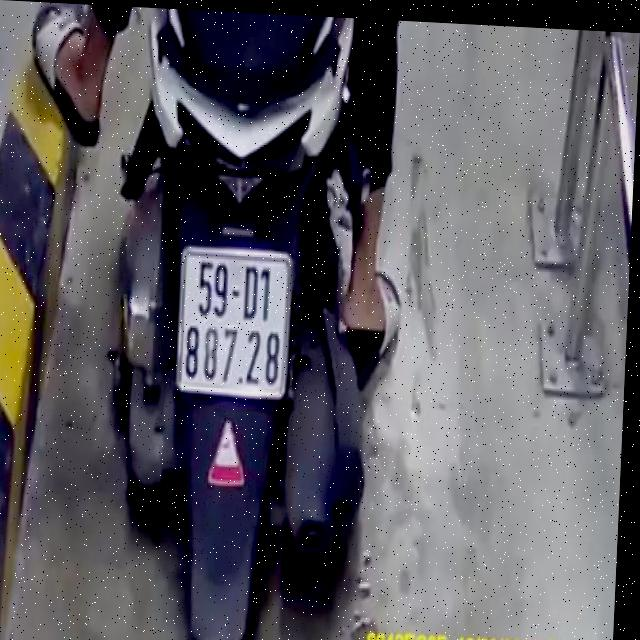motorcycle: (99, 7, 396, 640)
plate: (167, 241, 297, 405)
